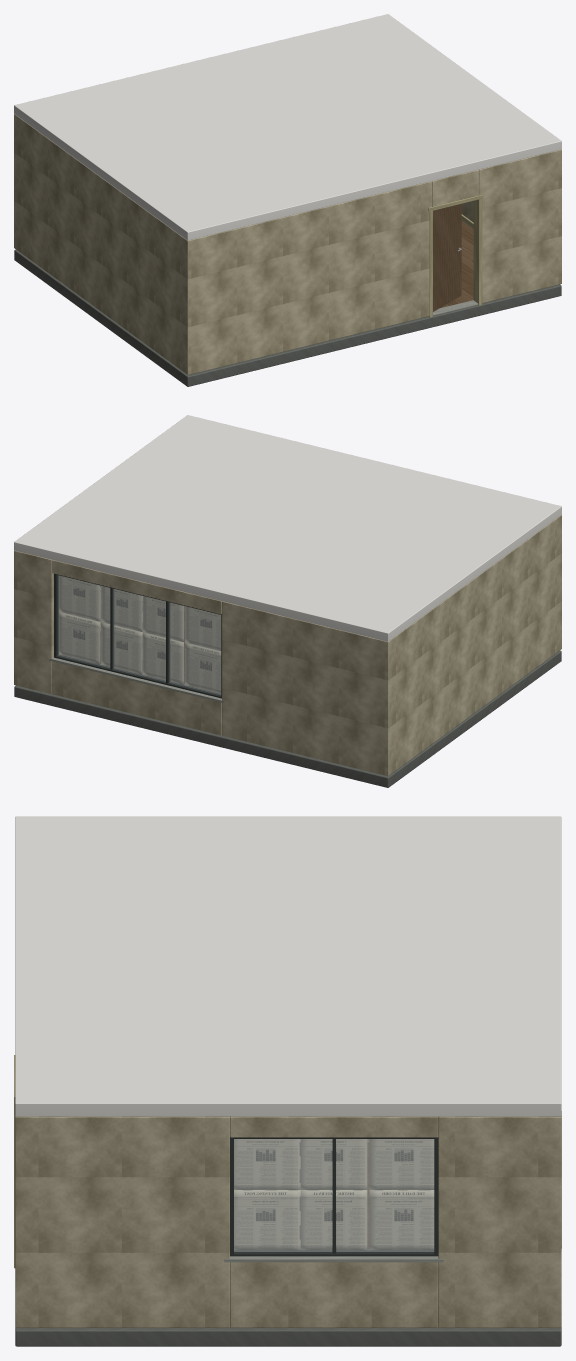
The model's file is studio_apartment.glb.
The picture shows the model from 3 angles, top to bottom: view 1: azimuth 30°, elevation 25°; view 2: azimuth 150°, elevation 25°; view 3: azimuth 270°, elevation 25°; orthographic projection. The views are drawn at different scales.
Parts seen in each view (by area): view 1: Complete ceiling slab, South entry / west wall, West exterior wall, South entry / east wall, Continuous structural floor slab, Apartment entrance / panel, South entry / lintel, Oak floor | staggered individual boards, East exterior / southern pier, Apartment entrance / jamb.001, Apartment entrance / architrave.001; view 2: Complete ceiling slab, West exterior wall, North wall / bathroom and pier, Continuous structural floor slab, North window / below sill, North window / east pier, Living room picture window / glass pane 2, Living room picture window / glass pane 3, Living room picture window / glass pane 1, North window / lintel, Living room picture window / newspaper 4-1, Living room picture window / newspaper 3-1 (+9 smaller); view 3: Complete ceiling slab, East exterior / southern pier, East exterior / northern pier, East window / below sill, Side window / glass pane 1, Side window / glass pane 2, Continuous structural floor slab, East window / lintel, Side window / newspaper 1-1, Side window / newspaper 3-1, Side window / newspaper 2-1, Side window / newspaper 1-2 (+4 smaller).
Part boxes in pixels (left/top/right/bottom): Complete ceiling slab: left=14, top=14, right=561, bottom=240; South entry / west wall: left=192, top=181, right=431, bottom=373; West exterior wall: left=14, top=114, right=195, bottom=374; South entry / east wall: left=479, top=150, right=557, bottom=303; Continuous structural floor slab: left=14, top=249, right=561, bottom=386; Apartment entrance / panel: left=433, top=204, right=461, bottom=311; South entry / lintel: left=432, top=170, right=478, bottom=206; Oak floor | staggered individual boards: left=440, top=221, right=473, bottom=308; East exterior / southern pier: left=554, top=149, right=561, bottom=284; Apartment entrance / jamb.001: left=473, top=200, right=478, bottom=303; Apartment entrance / architrave.001: left=478, top=199, right=482, bottom=305; Complete ceiling slab: left=14, top=415, right=561, bottom=641; West exterior wall: left=380, top=515, right=561, bottom=775; North wall / bathroom and pier: left=222, top=601, right=383, bottom=774; Continuous structural floor slab: left=14, top=650, right=561, bottom=787; North window / below sill: left=52, top=661, right=221, bottom=735; North window / east pier: left=18, top=551, right=53, bottom=693; Living room picture window / glass pane 2: left=113, top=589, right=165, bottom=681; Living room picture window / glass pane 3: left=58, top=575, right=109, bottom=667; Living room picture window / glass pane 1: left=169, top=602, right=220, bottom=694; North window / lintel: left=52, top=560, right=221, bottom=614; Living room picture window / newspaper 4-1: left=59, top=612, right=100, bottom=664; Living room picture window / newspaper 3-1: left=101, top=622, right=142, bottom=674; Complete ceiling slab: left=15, top=816, right=561, bottom=1116; East exterior / southern pier: left=15, top=1116, right=229, bottom=1327; East exterior / northern pier: left=438, top=1116, right=561, bottom=1327; East window / below sill: left=230, top=1262, right=438, bottom=1327; Side window / glass pane 1: left=234, top=1139, right=331, bottom=1251; Side window / glass pane 2: left=336, top=1139, right=433, bottom=1251; Continuous structural floor slab: left=15, top=1327, right=561, bottom=1346; East window / lintel: left=230, top=1116, right=438, bottom=1137; Side window / newspaper 1-1: left=234, top=1190, right=300, bottom=1250; Side window / newspaper 3-1: left=369, top=1190, right=434, bottom=1250; Side window / newspaper 2-1: left=299, top=1190, right=367, bottom=1250; Side window / newspaper 1-2: left=234, top=1139, right=300, bottom=1190.
Size of the model in its own units: 8.17 by 3.23 by 6.58.
20 materials, 13 textured.
